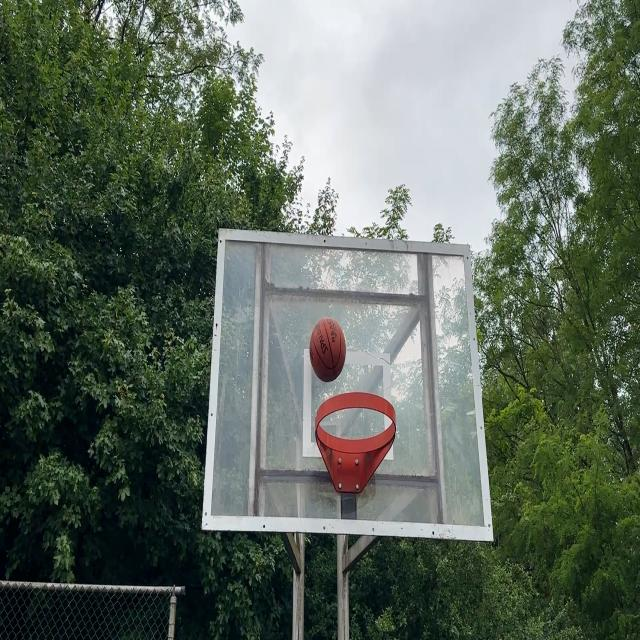Basketball: (310, 317, 346, 382)
